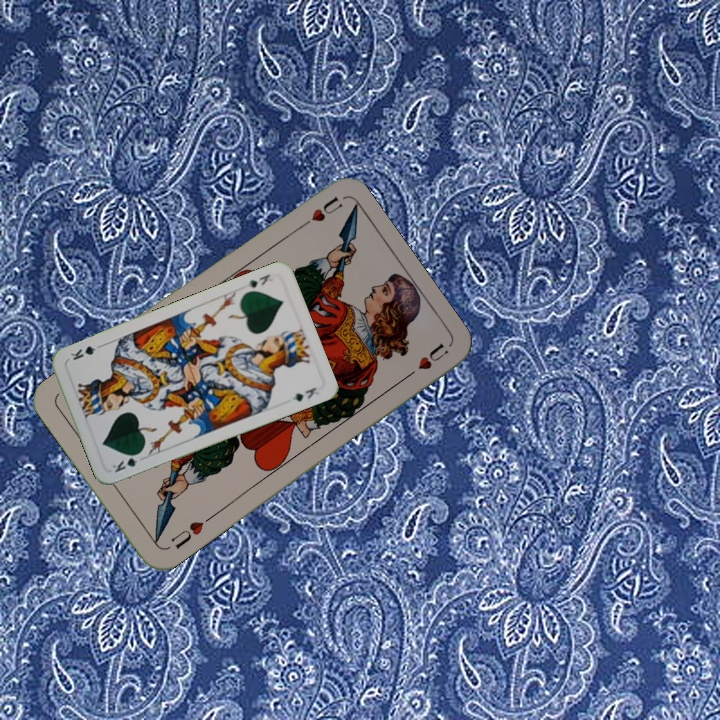GK: (108, 448, 144, 475), (242, 270, 273, 291)
HU: (292, 193, 346, 233), (166, 512, 214, 552)
